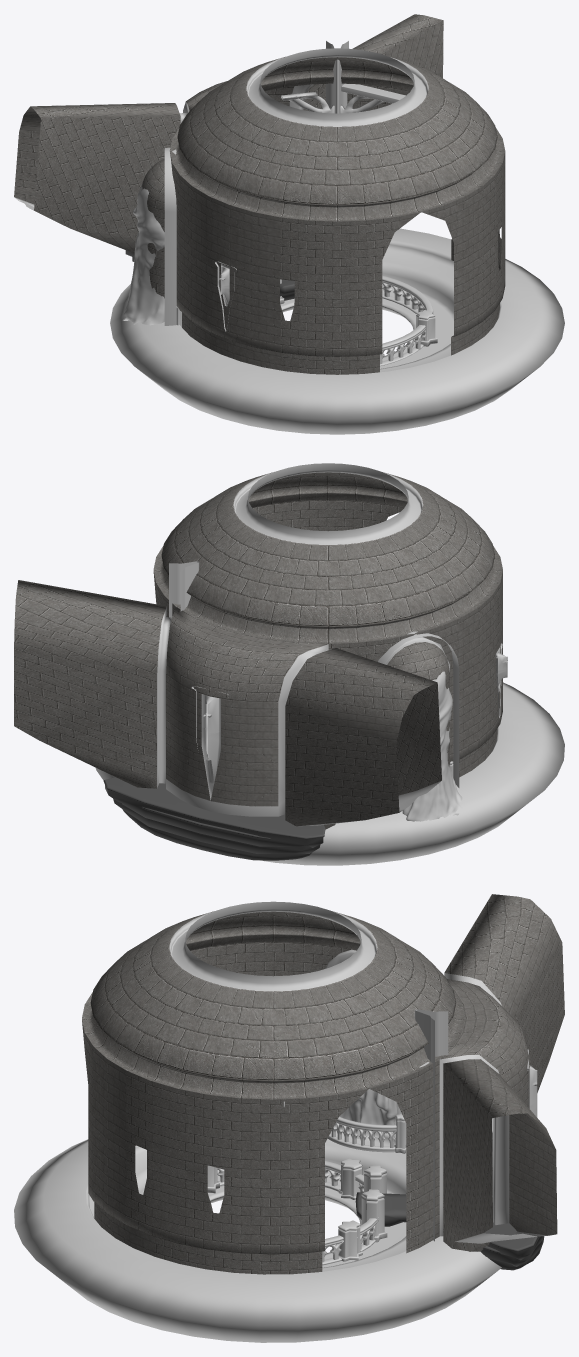
File: CrucibleTransition_D.fbx
The picture shows the model from 3 angles, top to bottom: view 1: azimuth 30°, elevation 25°; view 2: azimuth 150°, elevation 25°; view 3: azimuth 270°, elevation 25°; orthographic projection. The views are drawn at different scales.
Visible parts, largest first — view 1: CrucibleTransition_D_Structure, CrucibleTransition_Level_A2, Railing_Alcove, Statue_Standing_High7, CrucibleTransitionPillarA_20, Railing_Pillar_A2, Railing_Pillar_A1, CrucibleTransitionPillarA_10, CrucibleTransition_WindowsA_19; view 2: CrucibleTransition_D_Structure, CrucibleTransition_Level_A2, TransitionStairs1, Railing_Alcove, Statue_Standing_High7, CrucibleTransition_WindowsA_13, CrucibleTransitionPillarA_10; view 3: CrucibleTransition_D_Structure, CrucibleTransition_Level_A2, TransitionStairs1, Railing_Alcove, CrucibleTransitionPillarA_10, Statue_Standing_High7, RailingPillar_Bridge, Railing_Pillar_A4, Railing_Pillar_A1, Railing_Pillar_A3.
Part boxes in pixels (box(x1,y1,x2,y2)): CrucibleTransition_D_Structure: box(14, 14, 505, 374); CrucibleTransition_Level_A2: box(110, 228, 564, 434); Railing_Alcove: box(141, 147, 181, 326); Statue_Standing_High7: box(123, 183, 164, 325); CrucibleTransitionPillarA_20: box(281, 83, 405, 113); Railing_Pillar_A2: box(380, 310, 437, 365); Railing_Pillar_A1: box(382, 275, 433, 313); CrucibleTransitionPillarA_10: box(326, 41, 348, 113); CrucibleTransition_WindowsA_19: box(215, 261, 236, 331); CrucibleTransition_D_Structure: box(14, 463, 502, 829); CrucibleTransition_Level_A2: box(95, 682, 564, 865); TransitionStairs1: box(103, 777, 325, 860); Railing_Alcove: box(378, 631, 459, 787); Statue_Standing_High7: box(402, 671, 462, 821); CrucibleTransition_WindowsA_13: box(191, 686, 228, 800); CrucibleTransitionPillarA_10: box(169, 561, 199, 617); CrucibleTransition_D_Structure: box(82, 894, 564, 1274); CrucibleTransition_Level_A2: box(14, 1125, 501, 1342); TransitionStairs1: box(355, 1157, 544, 1270); Railing_Alcove: box(325, 949, 406, 1153); CrucibleTransitionPillarA_10: box(414, 1009, 448, 1241); Statue_Standing_High7: box(339, 1089, 401, 1140); RailingPillar_Bridge: box(361, 1165, 387, 1242); Railing_Pillar_A4: box(338, 1158, 378, 1251); Railing_Pillar_A1: box(322, 1220, 362, 1265); Railing_Pillar_A3: box(207, 1161, 340, 1193).
Bounding box in the file's own units: 4526 × 2879 × 4633.
